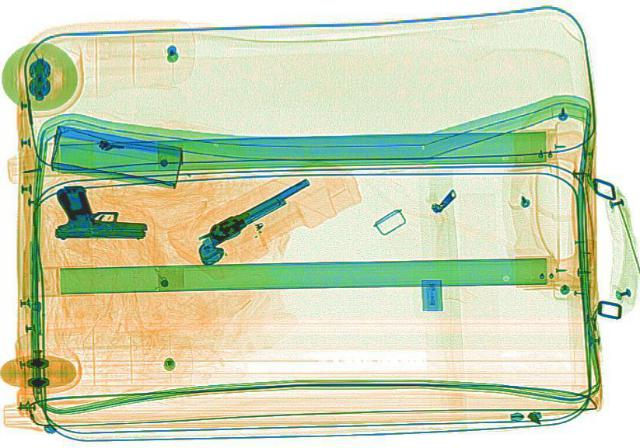Gun: (174, 173, 330, 265), (41, 179, 155, 243)
